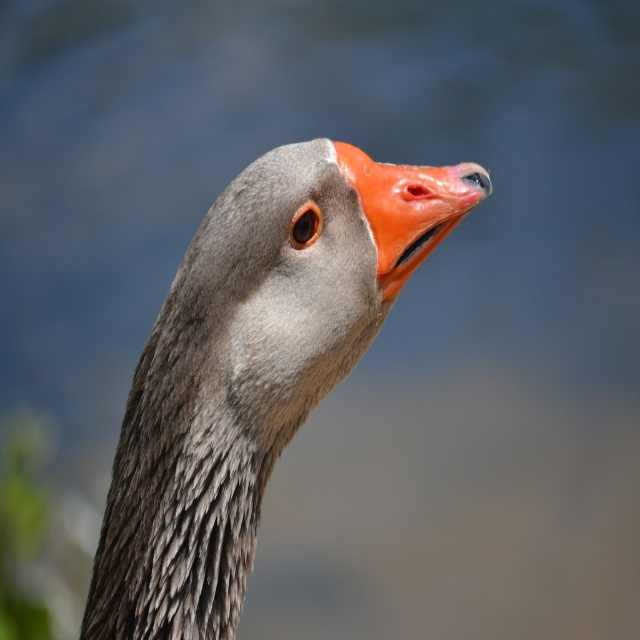Goose: (82, 161, 493, 639)
